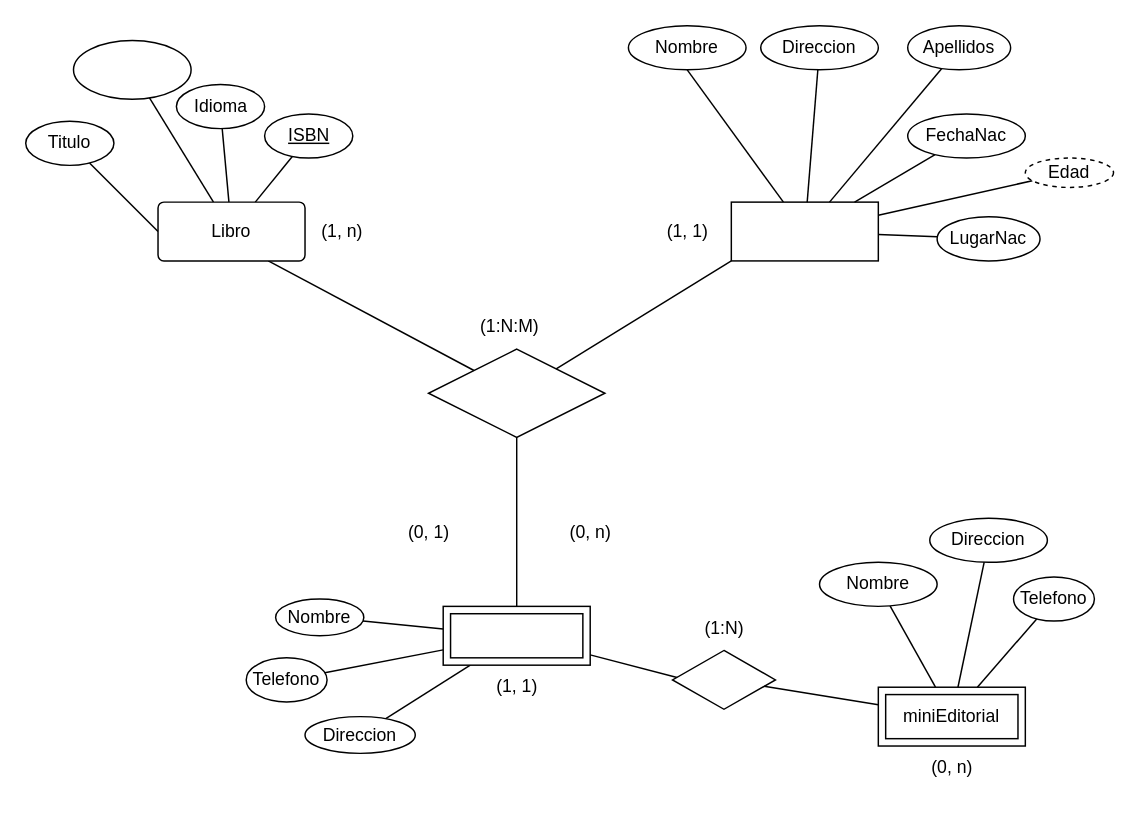
Some shapes in this 1139 by 816 pixel diagram are drawn without their labels. Each missing label, with the box of its shape:
Autor: (730, 201, 878, 261)
Año de publicacion: (72, 39, 191, 99)
Editorial: (442, 605, 590, 665)
Pertenece: (427, 348, 605, 437)
Tiene: (671, 649, 775, 709)
